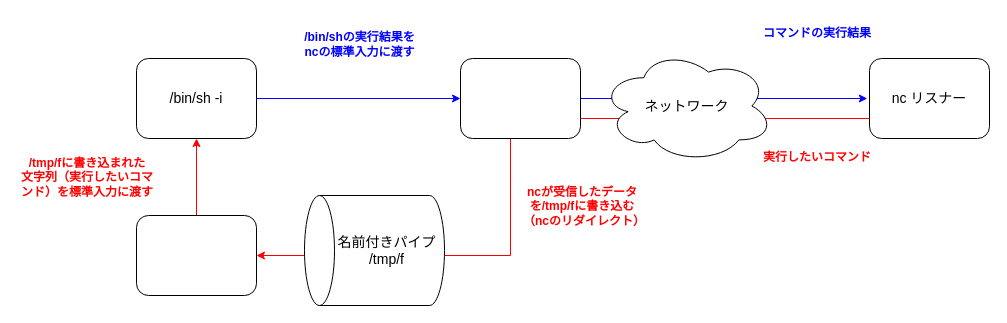
Some shapes in this 1007 by 323 pixel diagram are drawn without their labels. The box of each missing label's shape, as (x1, y1, x2, y2) in pixels:
cat /tmp/f: (136, 214, 256, 296)
nc <IP Addrf> <Port>: (460, 58, 580, 138)
